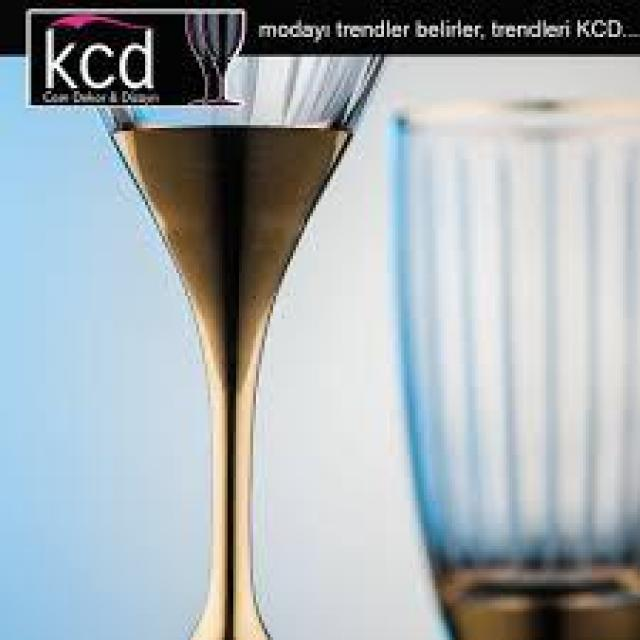non-organic waste: (88, 54, 390, 640), (387, 99, 640, 640)
